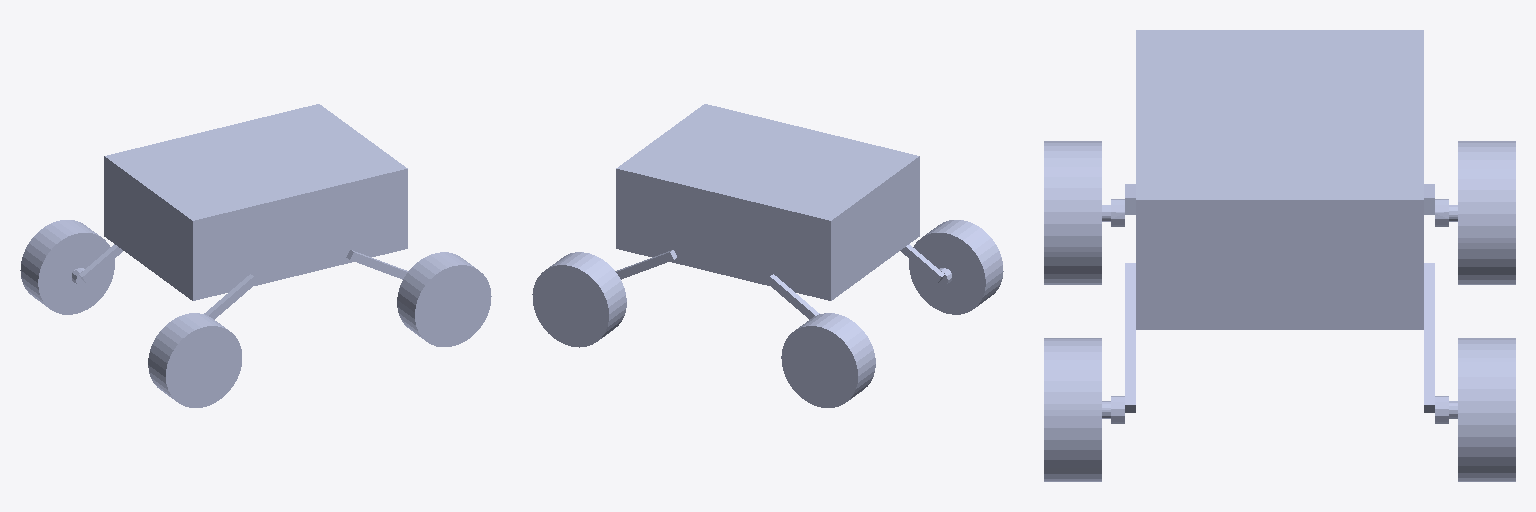
URDF robot description (mobile_rover_basic):
<?xml version="1.0" encoding="utf-8"?>
<!-- This URDF was automatically created by SolidWorks to URDF Exporter! Originally created by [author] ([email redacted]) 
     Commit Version: 1.6.0-1-g15f4949  Build Version: 1.6.7594.29634
     For more information, please see http://wiki.ros.org/sw_urdf_exporter -->
<robot
  name="mobile_rover_basic">
  <link
    name="base_link">
    <inertial>
      <origin
        xyz="5.45304205679109E-08 0 -0.0321356608324926"
        rpy="0 0 0" />
      <mass
        value="1.44575959759505" />
      <inertia
        ixx="0.00249050571816598"
        ixy="-2.34883930223575E-19"
        ixz="-9.40774512376249E-09"
        iyy="0.00436429199167526"
        iyz="1.00269772646852E-20"
        izz="0.00583528649857964" />
    </inertial>
    <visual>
      <origin
        xyz="0 0 0"
        rpy="0 0 0" />
      <geometry>
        <mesh
          filename="package://mobile_rover_basic/meshes/base_link.STL" />
      </geometry>
      <material
        name="">
        <color
          rgba="0.792156862745098 0.819607843137255 0.933333333333333 1" />
      </material>
    </visual>
    <collision>
      <origin
        xyz="0 0 0"
        rpy="0 0 0" />
      <geometry>
        <mesh
          filename="package://mobile_rover_basic/meshes/base_link.STL" />
      </geometry>
    </collision>
  </link>
  <link
    name="frontleftwheel">
    <inertial>
      <origin
        xyz="2.7756E-17 0.012802 0"
        rpy="0 0 0" />
      <mass
        value="0.080903" />
      <inertia
        ixx="2.4748E-05"
        ixy="-2.5222E-22"
        ixz="-1.8986E-21"
        iyy="4.0548E-05"
        iyz="8.4881E-23"
        izz="2.4748E-05" />
    </inertial>
    <visual>
      <origin
        xyz="0 0 0"
        rpy="0 0 0" />
      <geometry>
        <mesh
          filename="package://mobile_rover_basic/meshes/frontleftwheel.STL" />
      </geometry>
      <material
        name="">
        <color
          rgba="0.79216 0.81961 0.93333 1" />
      </material>
    </visual>
    <collision>
      <origin
        xyz="0 0 0"
        rpy="0 0 0" />
      <geometry>
        <mesh
          filename="package://mobile_rover_basic/meshes/frontleftwheel.STL" />
      </geometry>
    </collision>
  </link>
  <joint
    name="frontleft"
    type="continuous">
    <origin
      xyz="0.10303 -0.10414 -0.095827"
      rpy="0 0 0" />
    <parent
      link="base_link" />
    <child
      link="frontleftwheel" />
    <axis
      xyz="0 1 0" />
  </joint>
  <link
    name="backleftwheel">
    <inertial>
      <origin
        xyz="0 0.012802 -1.3878E-17"
        rpy="0 0 0" />
      <mass
        value="0.080903" />
      <inertia
        ixx="2.4748E-05"
        ixy="2.3047E-22"
        ixz="7.783E-22"
        iyy="4.0548E-05"
        iyz="7.6363E-23"
        izz="2.4748E-05" />
    </inertial>
    <visual>
      <origin
        xyz="0 0 0"
        rpy="0 0 0" />
      <geometry>
        <mesh
          filename="package://mobile_rover_basic/meshes/backleftwheel.STL" />
      </geometry>
      <material
        name="">
        <color
          rgba="0.79216 0.81961 0.93333 1" />
      </material>
    </visual>
    <collision>
      <origin
        xyz="0 0 0"
        rpy="0 0 0" />
      <geometry>
        <mesh
          filename="package://mobile_rover_basic/meshes/backleftwheel.STL" />
      </geometry>
    </collision>
  </link>
  <joint
    name="backleft"
    type="continuous">
    <origin
      xyz="-0.103 -0.10414 -0.09587"
      rpy="0 0 0" />
    <parent
      link="base_link" />
    <child
      link="backleftwheel" />
    <axis
      xyz="0 1 0" />
  </joint>
  <link
    name="backrightwheel">
    <inertial>
      <origin
        xyz="0 -0.012802 -1.3878E-17"
        rpy="0 0 0" />
      <mass
        value="0.080903" />
      <inertia
        ixx="2.4748E-05"
        ixy="-7.7901E-22"
        ixz="-2.5643E-23"
        iyy="4.0548E-05"
        iyz="-7.7455E-25"
        izz="2.4748E-05" />
    </inertial>
    <visual>
      <origin
        xyz="0 0 0"
        rpy="0 0 0" />
      <geometry>
        <mesh
          filename="package://mobile_rover_basic/meshes/backrightwheel.STL" />
      </geometry>
      <material
        name="">
        <color
          rgba="0.79216 0.81961 0.93333 1" />
      </material>
    </visual>
    <collision>
      <origin
        xyz="0 0 0"
        rpy="0 0 0" />
      <geometry>
        <mesh
          filename="package://mobile_rover_basic/meshes/backrightwheel.STL" />
      </geometry>
    </collision>
  </link>
  <joint
    name="backright"
    type="continuous">
    <origin
      xyz="-0.103 0.10414 -0.09587"
      rpy="0 0 0" />
    <parent
      link="base_link" />
    <child
      link="backrightwheel" />
    <axis
      xyz="0 -1 0" />
  </joint>
  <link
    name="frontrightwheel">
    <inertial>
      <origin
        xyz="2.7756E-17 -0.012802 0"
        rpy="0 0 0" />
      <mass
        value="0.080903" />
      <inertia
        ixx="2.4748E-05"
        ixy="-2.6023E-22"
        ixz="2.8642E-22"
        iyy="4.0548E-05"
        iyz="-4.2618E-22"
        izz="2.4748E-05" />
    </inertial>
    <visual>
      <origin
        xyz="0 0 0"
        rpy="0 0 0" />
      <geometry>
        <mesh
          filename="package://mobile_rover_basic/meshes/frontrightwheel.STL" />
      </geometry>
      <material
        name="">
        <color
          rgba="0.79216 0.81961 0.93333 1" />
      </material>
    </visual>
    <collision>
      <origin
        xyz="0 0 0"
        rpy="0 0 0" />
      <geometry>
        <mesh
          filename="package://mobile_rover_basic/meshes/frontrightwheel.STL" />
      </geometry>
    </collision>
  </link>
  <joint
    name="frontright"
    type="continuous">
    <origin
      xyz="0.10303 0.10414 -0.095827"
      rpy="0 0 0" />
    <parent
      link="base_link" />
    <child
      link="frontrightwheel" />
    <axis
      xyz="0 -1 0" />
  </joint>
</robot>

--- Render facts (derived) ---
The picture shows the robot from 3 angles, left to right: view 1: azimuth 30°, elevation 25°; view 2: azimuth 150°, elevation 25°; view 3: azimuth 270°, elevation 25°; orthographic projection.
Robot: mobile_rover_basic — 5 links, 4 joints (4 continuous); root link base_link; default pose: every joint at zero.
Links seen in each view (by area): view 1: base_link, frontleftwheel, backleftwheel, backrightwheel; view 2: base_link, backrightwheel, frontrightwheel, backleftwheel; view 3: base_link, frontleftwheel, frontrightwheel, backleftwheel, backrightwheel.
Boxes of the visible links, bbox=[...] form: base_link: bbox=[72, 104, 407, 319]; frontleftwheel: bbox=[397, 252, 491, 346]; backleftwheel: bbox=[148, 313, 241, 407]; backrightwheel: bbox=[20, 220, 114, 314]; base_link: bbox=[615, 104, 951, 319]; backrightwheel: bbox=[781, 313, 875, 407]; frontrightwheel: bbox=[532, 252, 626, 347]; backleftwheel: bbox=[909, 220, 1003, 314]; base_link: bbox=[1111, 30, 1448, 423]; frontleftwheel: bbox=[1044, 338, 1110, 481]; frontrightwheel: bbox=[1449, 338, 1515, 481]; backleftwheel: bbox=[1044, 141, 1110, 284]; backrightwheel: bbox=[1449, 141, 1515, 284].
Size in the robot's own frame: 0.2695 by 0.2083 by 0.1276 metres.
5 mesh visuals loaded from 5 distinct referenced files (5 binary STL).